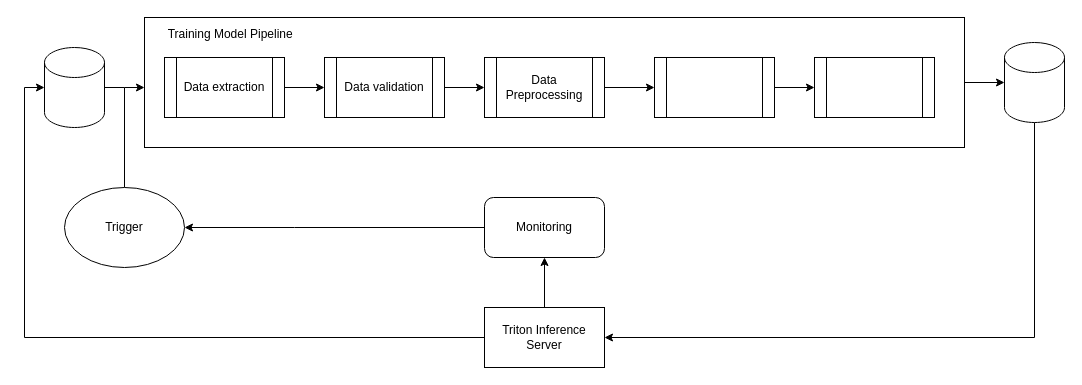
The diagram is 1082 pixels wide and 385 high, and some of its shapes have lost their labels. The shapes that lost their labels are listed below. From the top down, each one's box as (x1, y1, x2, y2) in pixels, then its label:
(44, 46, 104, 128): Feature Store
(654, 56, 774, 118): Model Training
(814, 56, 934, 118): Model Evaluation
(1004, 42, 1064, 122): Model Registry
